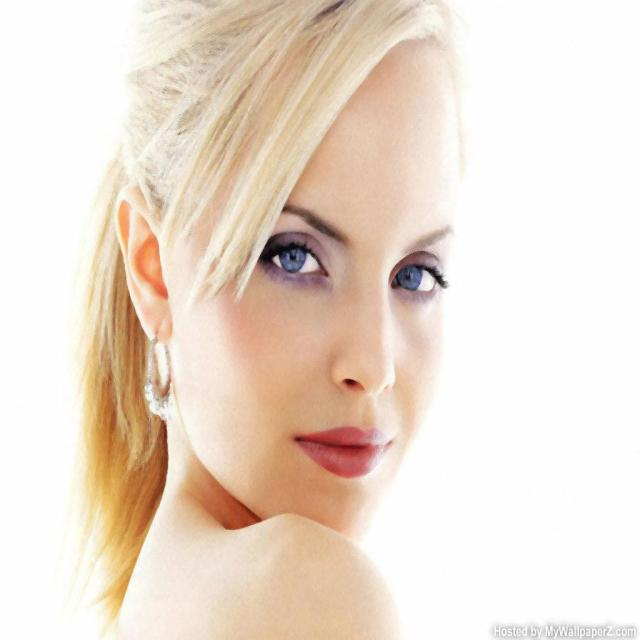no-earmuff: (99, 182, 199, 365)
